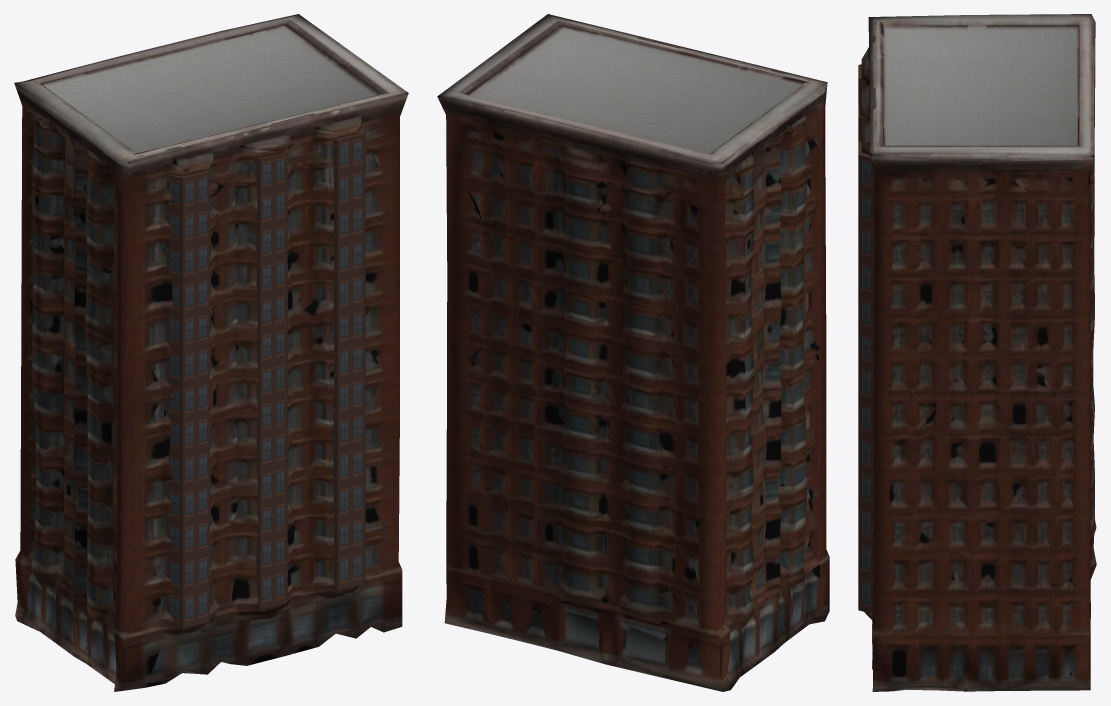
Rendered from pontiac_building.glb.
3 renders of one model, left to right at view 1: azimuth 30°, elevation 25°; view 2: azimuth 150°, elevation 25°; view 3: azimuth 270°, elevation 25°, orthographic.
Visible parts, largest first — view 1: pontiac_building; view 2: pontiac_building; view 3: pontiac_building.
Part boxes in pixels (<box>): pontiac_building: <box>14,14,408,691</box>; pontiac_building: <box>437,14,829,691</box>; pontiac_building: <box>858,14,1096,691</box>.
Size of the model in its own units: 30 by 53 by 21.11.
Materials: 2 (2 with a texture image).
